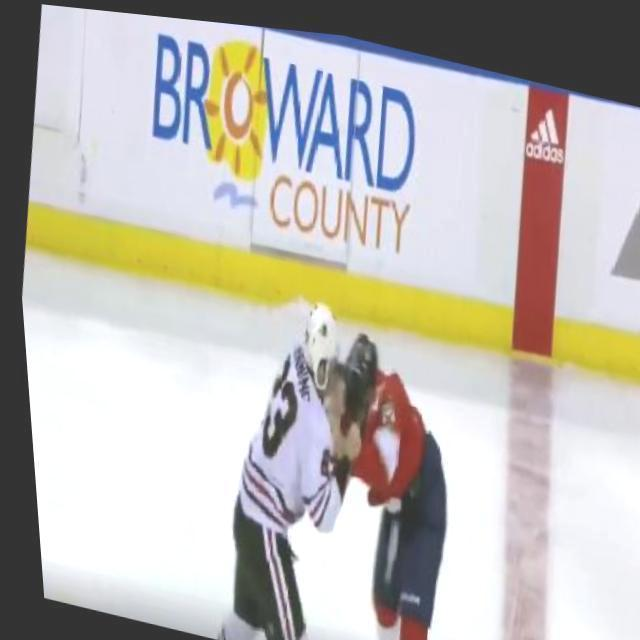fight: (194, 275, 477, 640)
